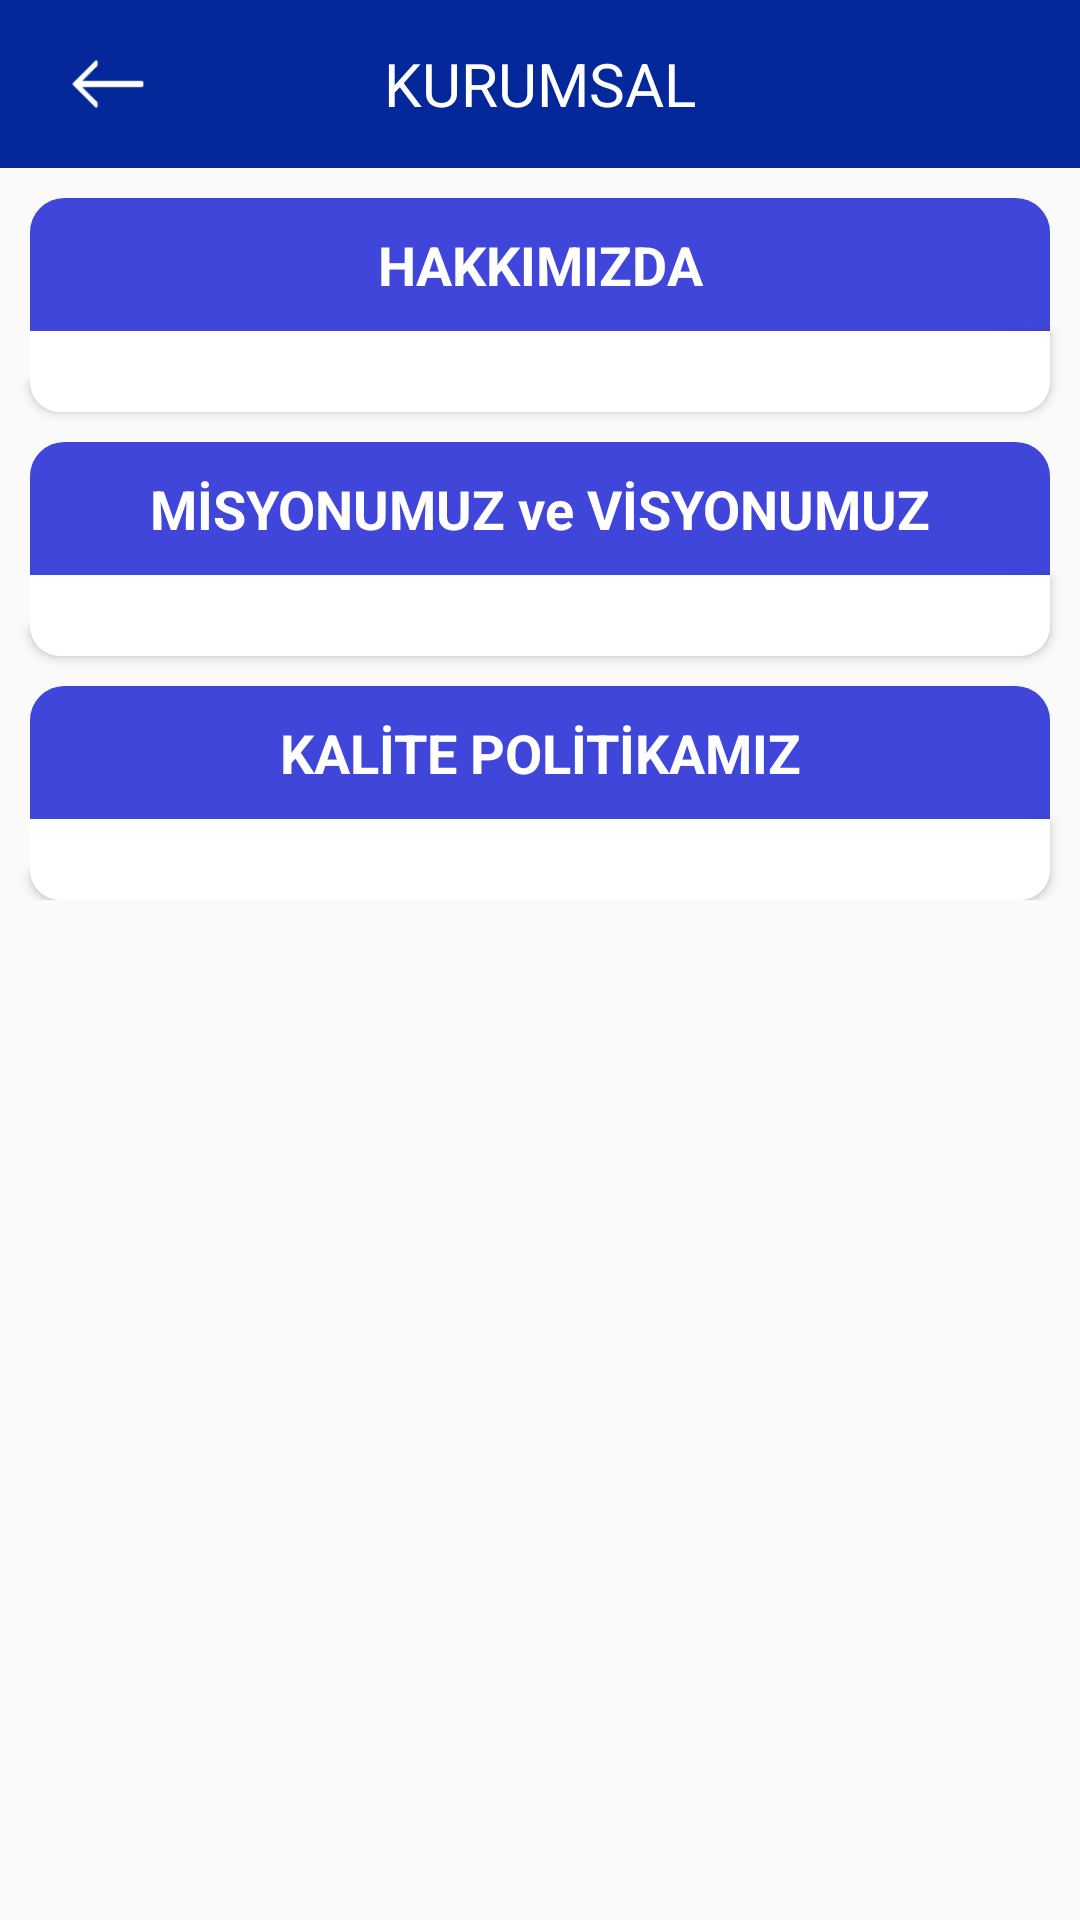

Icons on this 1080×1920 Android screen, each with the point to tap as (x=x, y=y):
back: (x=108, y=84)
